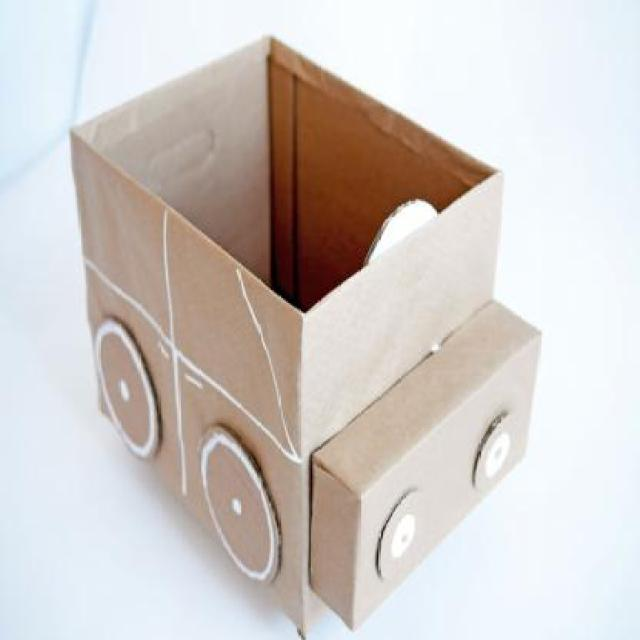box: (62, 29, 563, 640)
